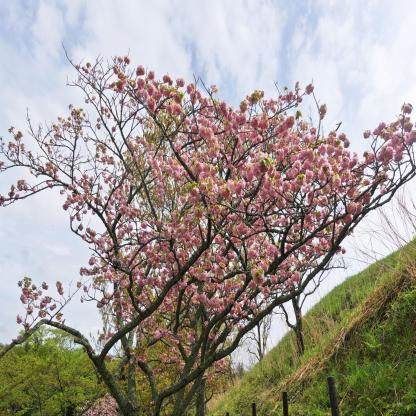YaeSakura: (0, 54, 416, 368), (268, 207, 344, 298), (77, 391, 121, 416)
